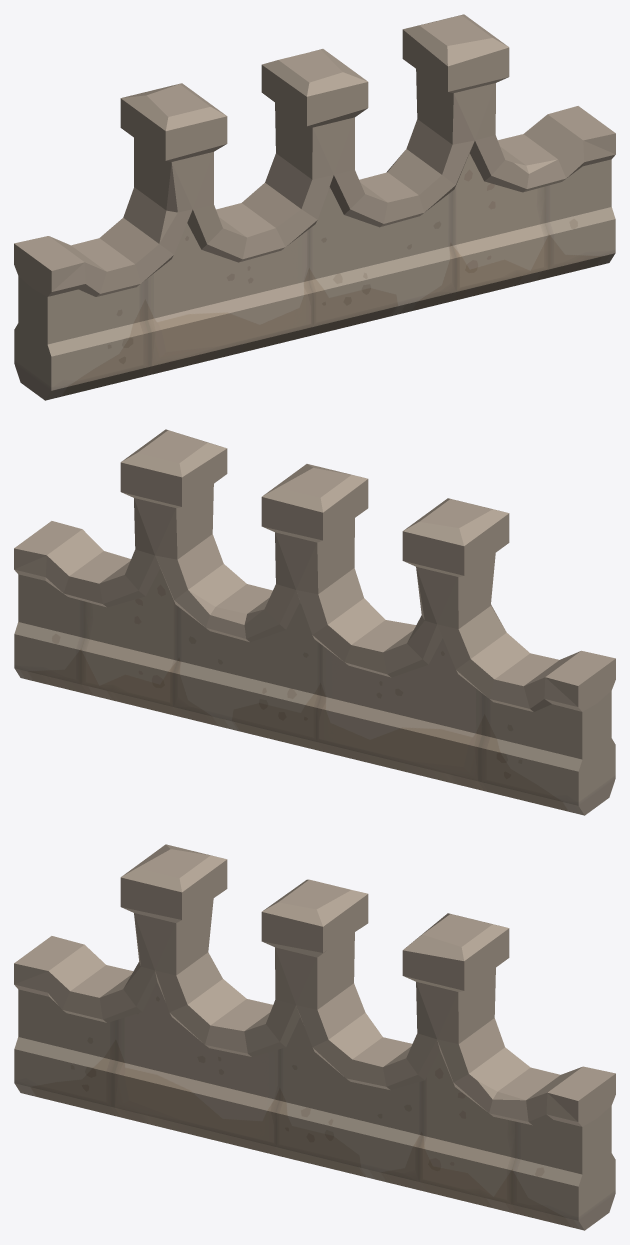
Rendered from SM_Bld_Manor_Railing_02.fbx.
3 views of the same model, one above another, from view 1: azimuth 30°, elevation 25°; view 2: azimuth 150°, elevation 25°; view 3: azimuth 330°, elevation 25° (orthographic).
Parts seen in each view (by area): view 1: SM_Bld_Manor_Railing_02; view 2: SM_Bld_Manor_Railing_02; view 3: SM_Bld_Manor_Railing_02.
Part boxes in pixels (<box>): SM_Bld_Manor_Railing_02: <box>14,14,615,400</box>; SM_Bld_Manor_Railing_02: <box>14,429,615,815</box>; SM_Bld_Manor_Railing_02: <box>14,844,615,1230</box>.
Bounding box in the file's own units: 250 × 109 × 34.71.
